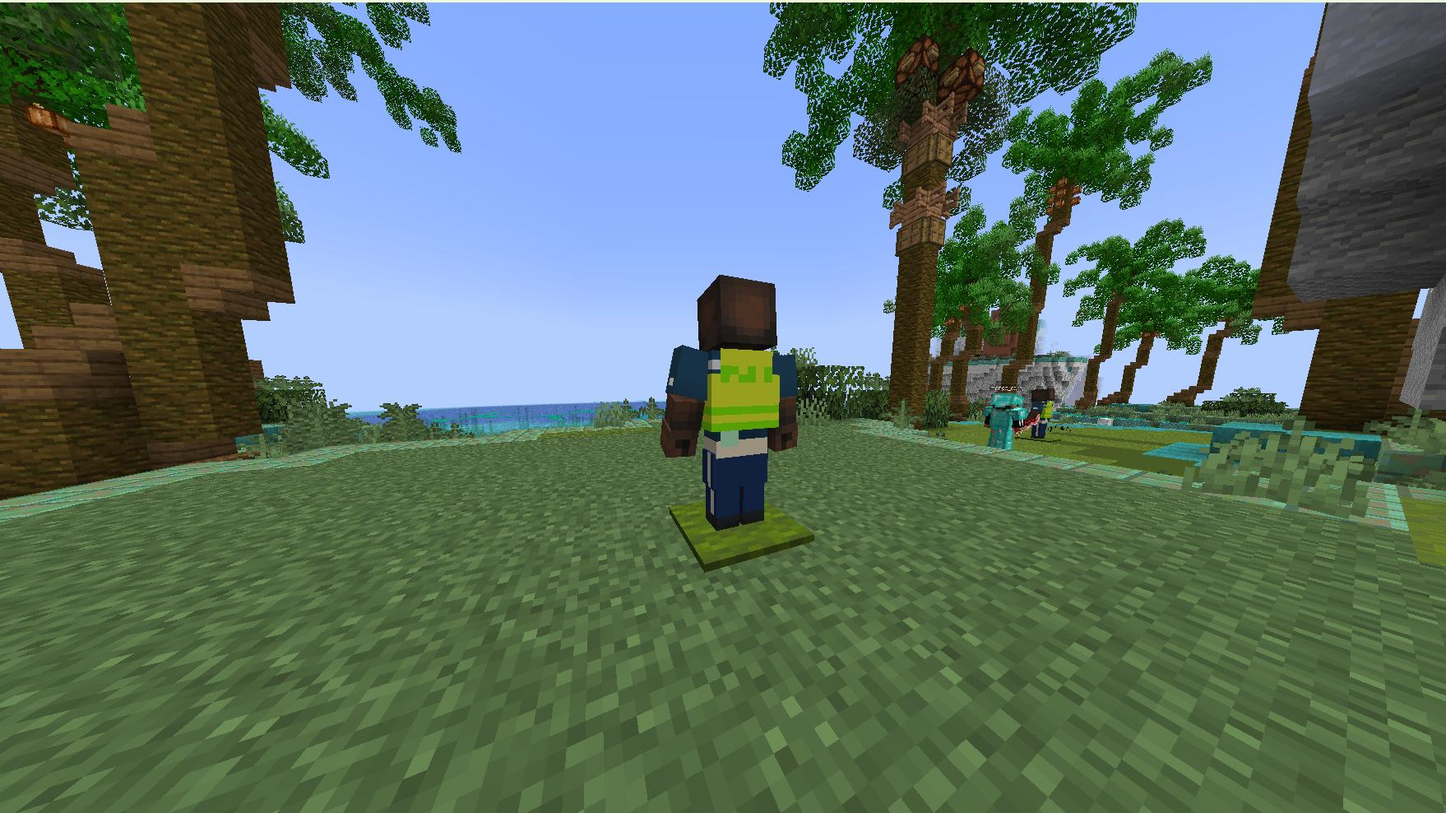Guardian: (660, 275, 797, 530)
